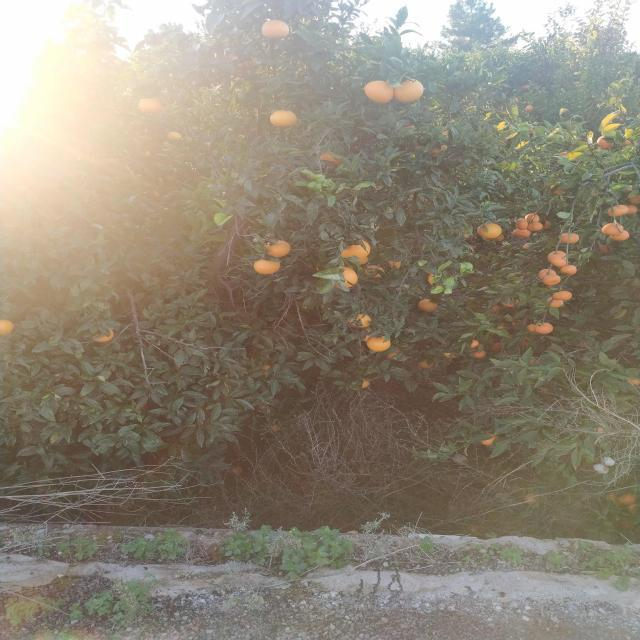Jeruk Sudah Matang: (392, 79, 425, 103), (334, 240, 371, 260), (364, 81, 392, 106), (260, 20, 290, 40), (271, 109, 297, 129), (264, 240, 292, 258), (366, 334, 393, 352), (256, 259, 282, 276), (351, 311, 374, 328), (88, 328, 115, 341), (477, 224, 501, 238), (342, 267, 358, 287), (602, 222, 624, 236), (547, 250, 566, 266), (417, 298, 438, 312), (138, 99, 158, 112), (608, 204, 628, 217), (560, 232, 579, 244), (536, 322, 554, 334), (618, 494, 639, 504), (545, 297, 564, 308), (0, 318, 13, 334), (480, 434, 498, 445), (538, 269, 556, 279), (554, 291, 574, 300), (527, 222, 543, 232), (514, 228, 530, 238), (560, 265, 576, 275), (544, 275, 560, 285), (515, 218, 528, 230), (525, 213, 540, 223), (626, 205, 638, 215), (472, 350, 486, 358), (627, 195, 640, 203), (466, 340, 478, 348), (526, 324, 536, 332)
